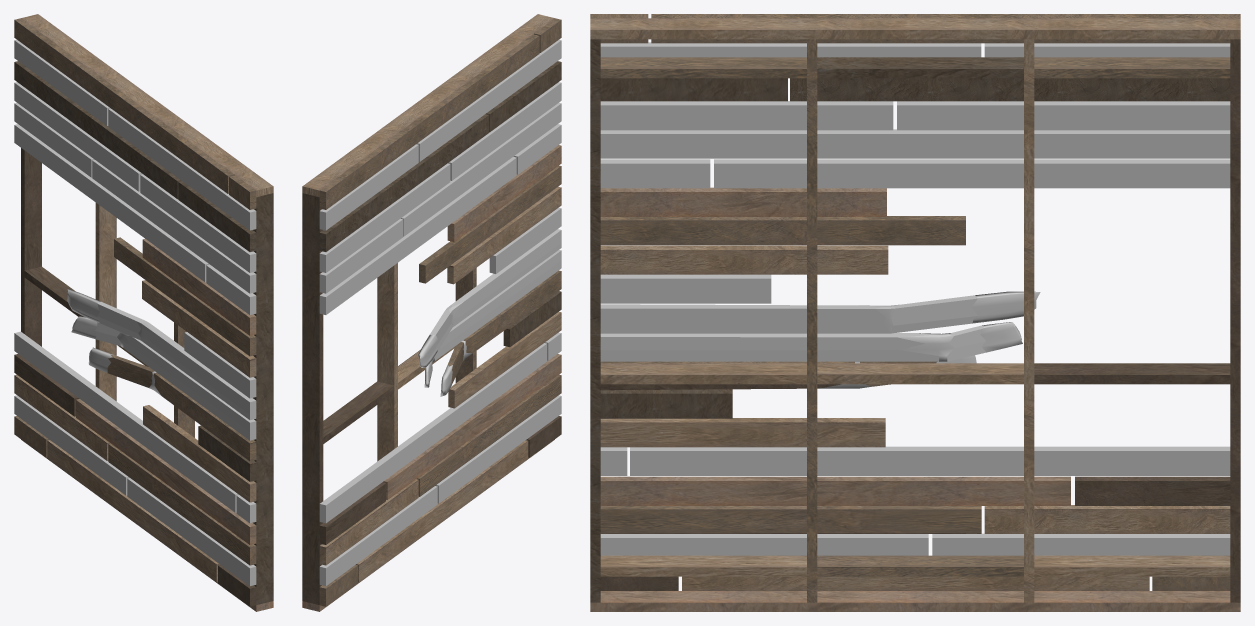
The model's file is WoodWallB.fbx.
3 views of the same model, side by side, from view 1: azimuth 30°, elevation 25°; view 2: azimuth 150°, elevation 25°; view 3: azimuth 270°, elevation 25° (orthographic). The views are drawn at different scales.
Parts seen in each view (by area): view 1: WoodWallB; view 2: WoodWallB; view 3: WoodWallB.
Boxes of the visible parts, box(x1,y1,x2,y2) form: WoodWallB: box(14, 14, 273, 611); WoodWallB: box(302, 14, 561, 611); WoodWallB: box(590, 14, 1240, 611).
Bounding box in the file's own units: 43.5 × 374 × 379.
